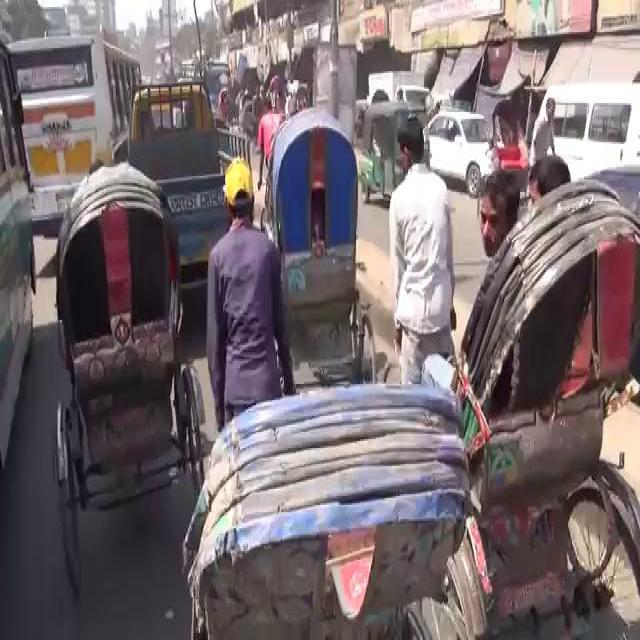11: (122, 69, 254, 284), (365, 65, 437, 120)
13: (453, 172, 639, 628), (178, 374, 474, 636), (47, 156, 213, 601), (262, 100, 378, 390), (490, 94, 556, 172)
17: (361, 89, 432, 206)
19: (528, 80, 638, 183)
5: (421, 105, 493, 197)
Truck: (8, 28, 142, 220), (0, 32, 37, 492), (179, 56, 231, 100)
